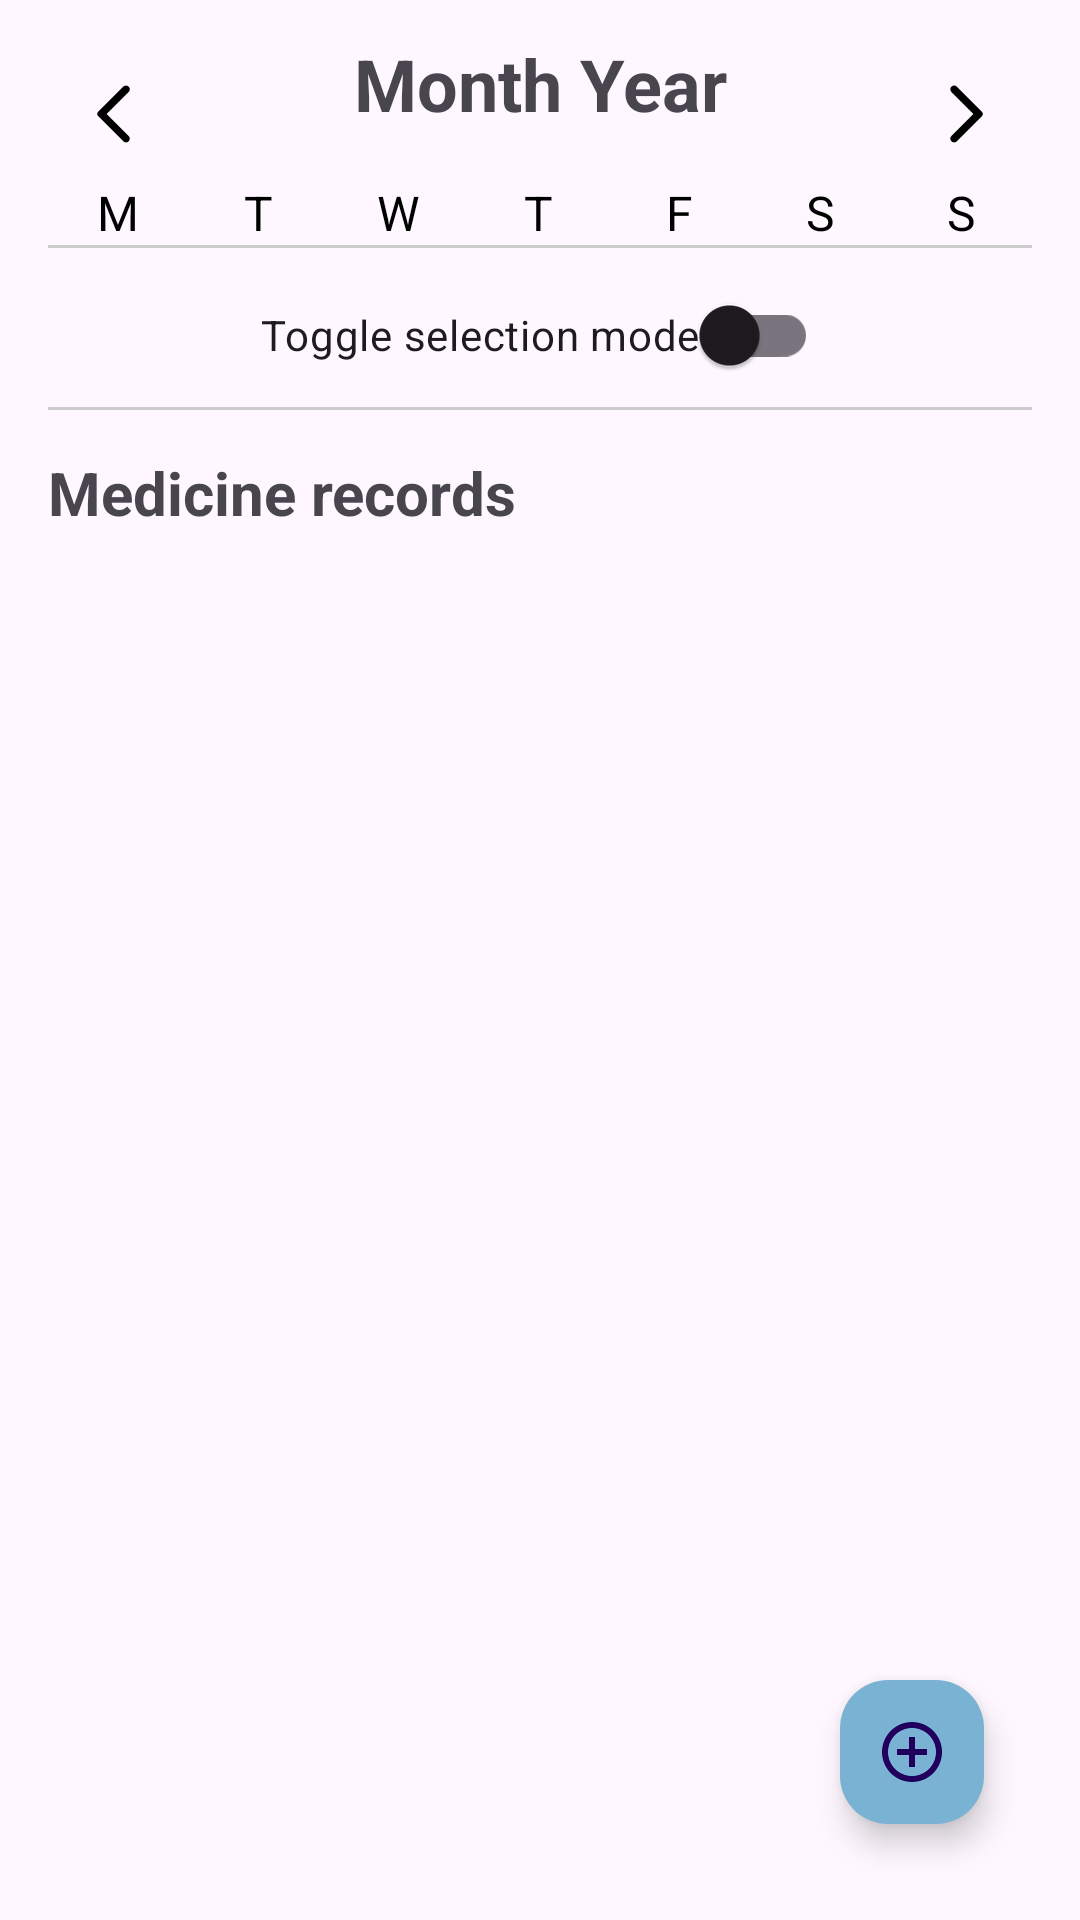

Named icons in this screenshot (1080*1920) and their centers, point (x, y):
Add medication: point (912, 1752)
Next month: point (966, 114)
Previous month: point (113, 114)
